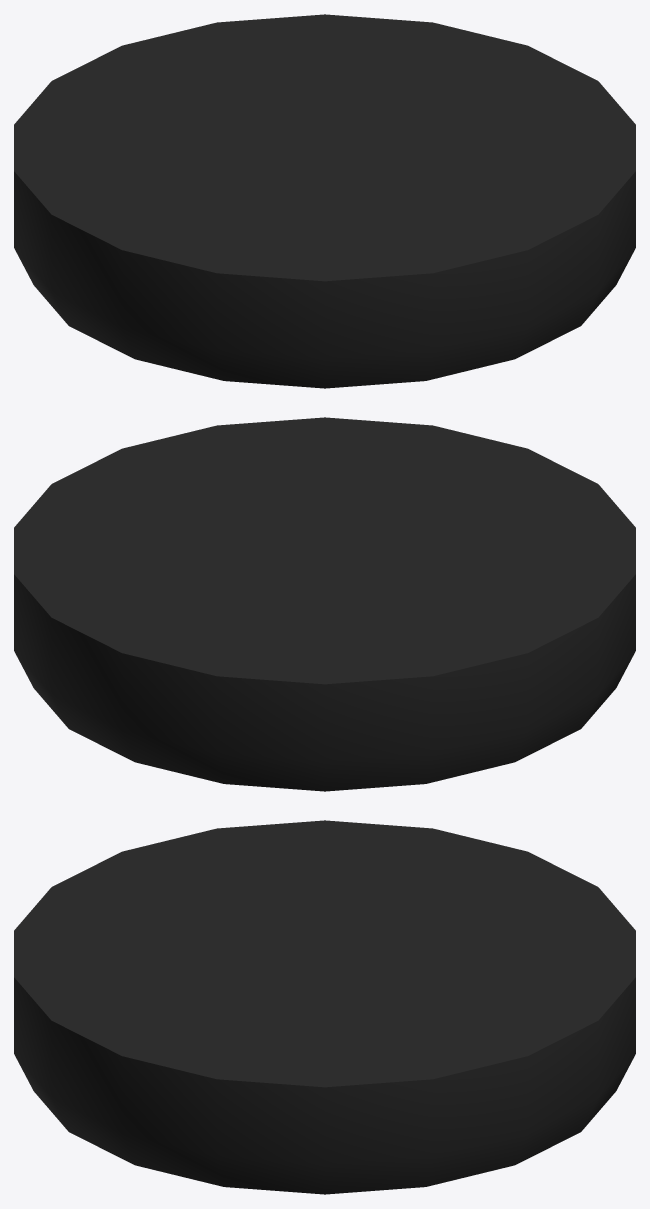
File: Ceiling lamp 3.fbx
3 renders of one model, top to bottom at view 1: azimuth 30°, elevation 25°; view 2: azimuth 150°, elevation 25°; view 3: azimuth 270°, elevation 25°, orthographic.
Visible parts, largest first — view 1: ceiling lamp 3; view 2: ceiling lamp 3; view 3: ceiling lamp 3.
Part boxes in pixels (x1,y1,x2,y2): ceiling lamp 3: [14, 14, 635, 388]; ceiling lamp 3: [14, 417, 635, 791]; ceiling lamp 3: [14, 820, 635, 1194].
Size of the model in its own units: 15.32 by 3.1 by 15.09.
Materials: 2 (1 with a texture image).
